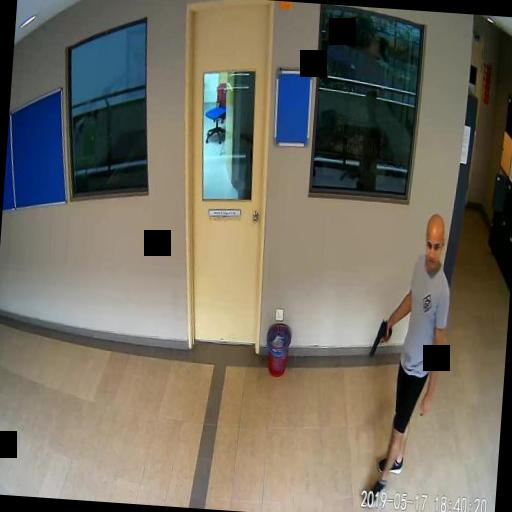Handgun: (368, 318, 391, 356)
